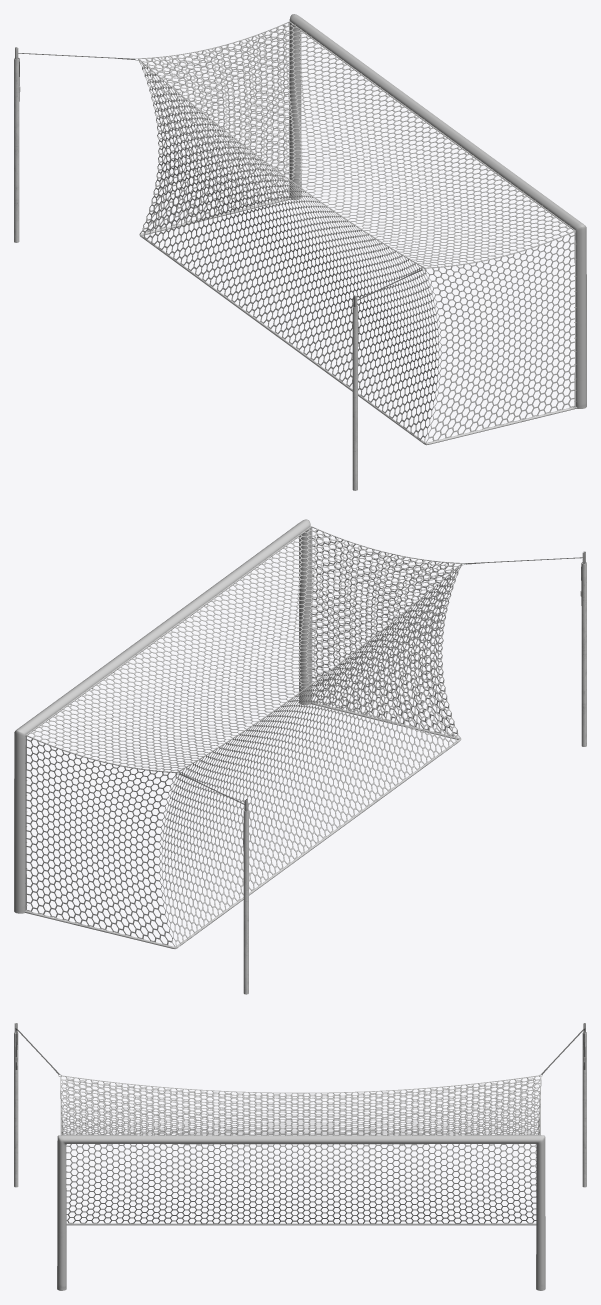
File: Porteria.fbx
The picture shows the model from 3 angles, top to bottom: view 1: azimuth 30°, elevation 25°; view 2: azimuth 150°, elevation 25°; view 3: azimuth 270°, elevation 25°; orthographic projection. The views are drawn at different scales.
Visible parts, largest first — view 1: Net, Bar, Case; view 2: Net, Bar, Case; view 3: Net, Bar, Case.
Part boxes in pixels (x1,y1,x2,y2): Net: (138, 21, 575, 443); Bar: (140, 14, 586, 445); Case: (14, 47, 426, 490); Net: (25, 526, 462, 947); Bar: (14, 519, 460, 948); Case: (175, 551, 586, 994); Net: (60, 1075, 541, 1223); Bar: (57, 1135, 545, 1290); Case: (14, 1023, 586, 1187).
Bounding box in the file's own units: 313 × 223 × 710.
